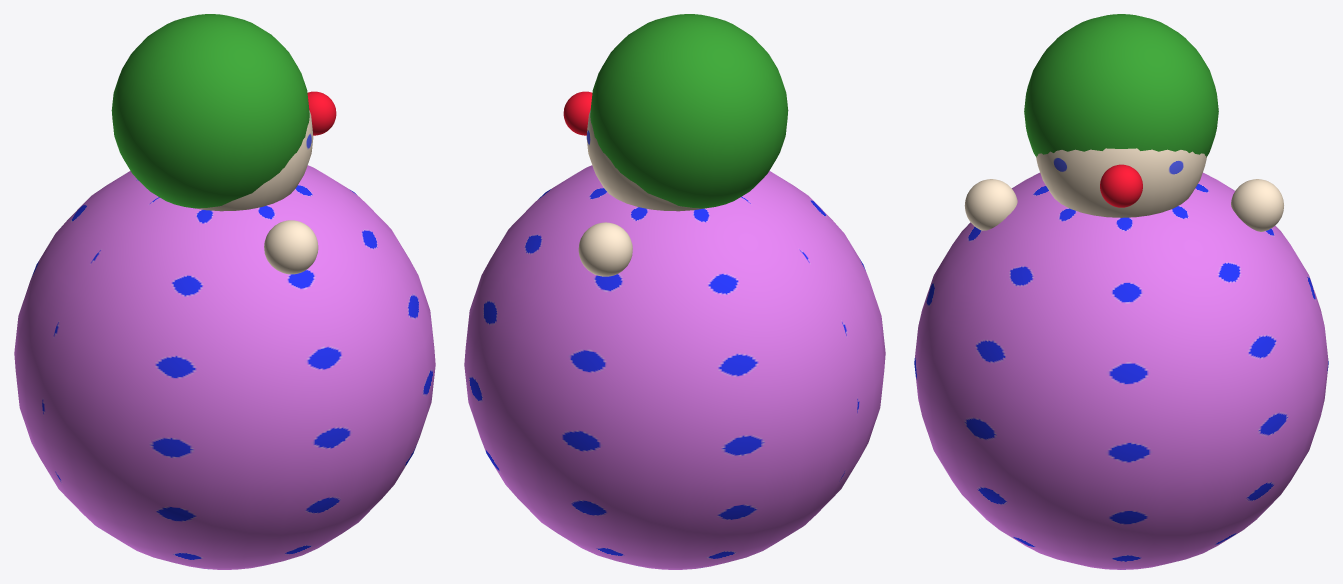
File: clown_pinkbluedot.gltf
3 renders of one model, left to right at view 1: azimuth 30°, elevation 25°; view 2: azimuth 150°, elevation 25°; view 3: azimuth 270°, elevation 25°, orthographic.
Parts seen in each view (by area): view 1: Clown; view 2: Clown; view 3: Clown.
Part boxes in pixels (x1,y1,x2,y2): Clown: (14, 14, 435, 569); Clown: (464, 14, 885, 569); Clown: (914, 14, 1328, 569).
Size of the model in its own units: 2 by 2.77 by 2.
1 material, 1 textured.
